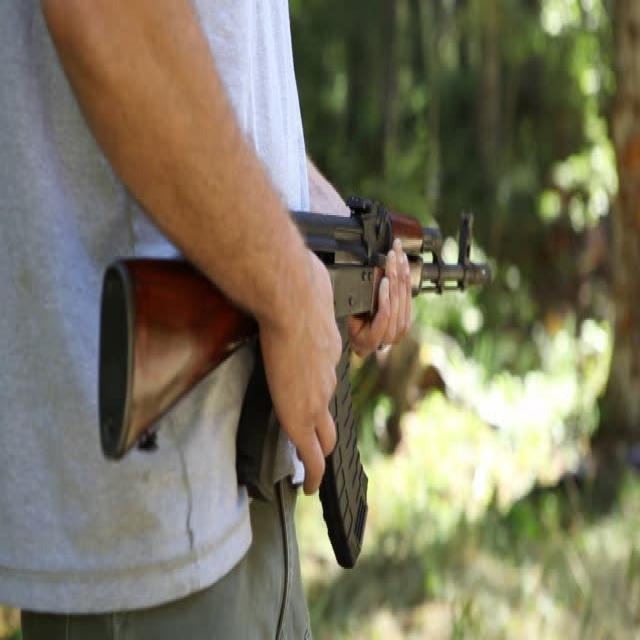weapon: (97, 192, 493, 570)
